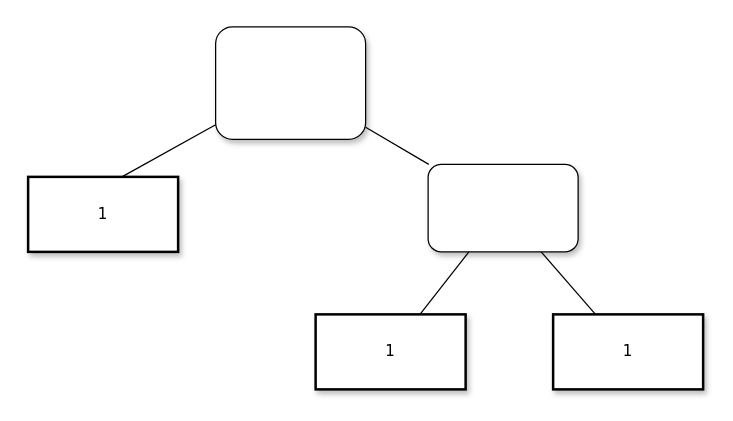
The diagram is 733 pixels wide and 421 high, and some of its shapes have lost their labels. Each missing label, with the centre of its shape:
"<0.158 NOI avg 173|55" goes at [504,209].
"<5 pre-release mistakes 433|228" goes at [291,84].
